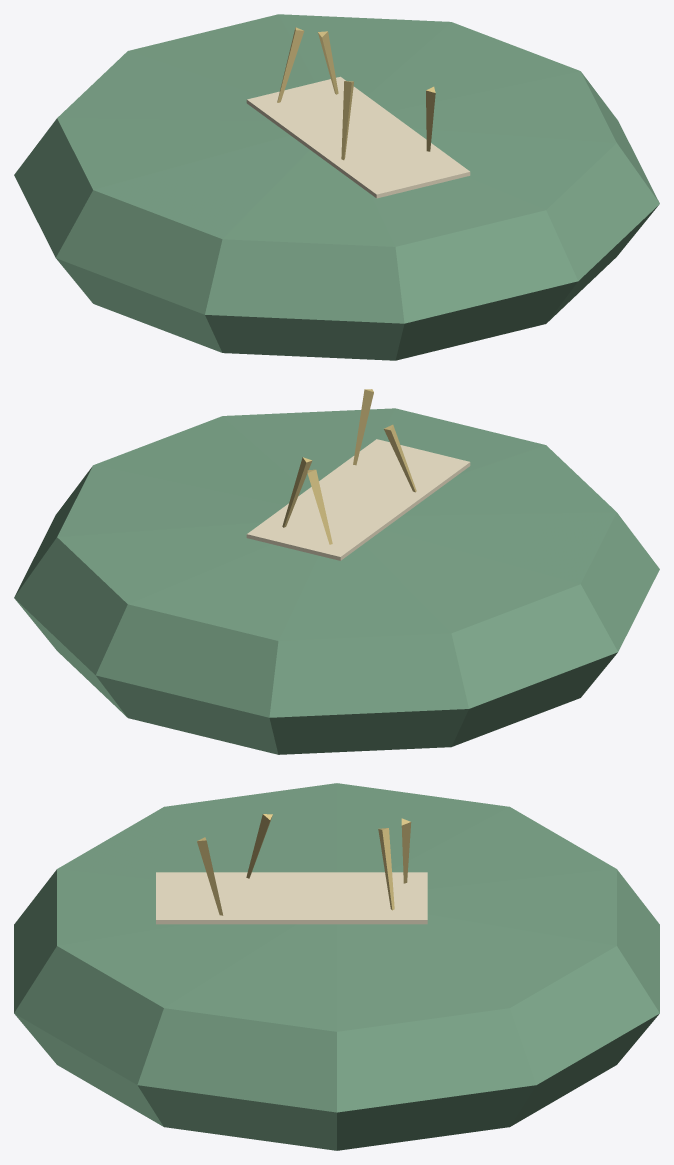
File: prop-lace-pillow.fbx
3 views of the same model, one above another, from view 1: azimuth 30°, elevation 25°; view 2: azimuth 150°, elevation 25°; view 3: azimuth 270°, elevation 25° (orthographic). The views are drawn at different scales.
Parts seen in each view (by area): view 1: prop-lace-pillow; view 2: prop-lace-pillow; view 3: prop-lace-pillow.
Boxes of the visible parts, x1=… form: prop-lace-pillow: x1=14, y1=14, x2=659, y2=360; prop-lace-pillow: x1=14, y1=389, x2=659, y2=754; prop-lace-pillow: x1=14, y1=783, x2=659, y2=1150.
Bounding box in the file's own units: 30 × 10.34 × 28.53.
